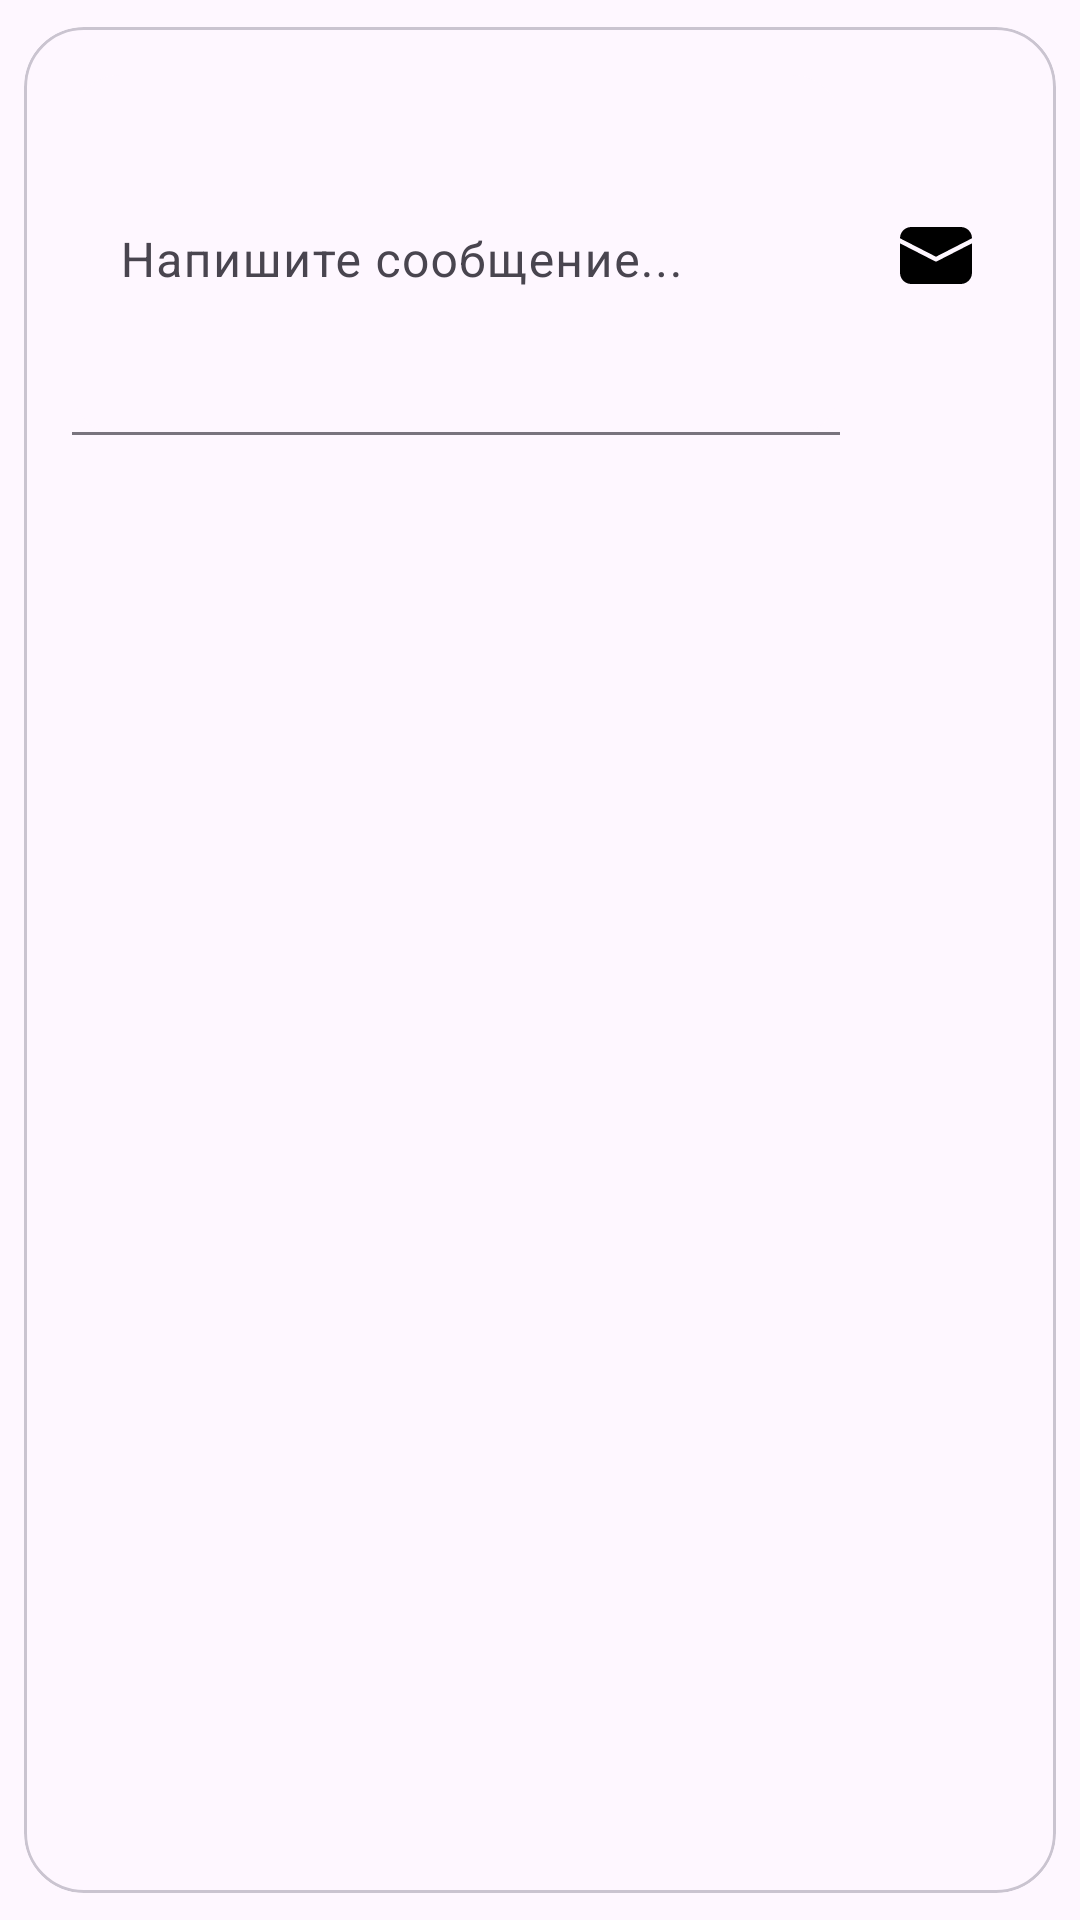

Icon bounding boxes for this 1080 × 1920 phone screenshot, format (x1, y1, x2, y2):
Отправить: (900, 227, 972, 284)
